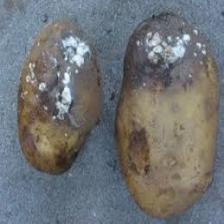Damaged potato: (117, 15, 220, 219), (24, 17, 104, 176)
